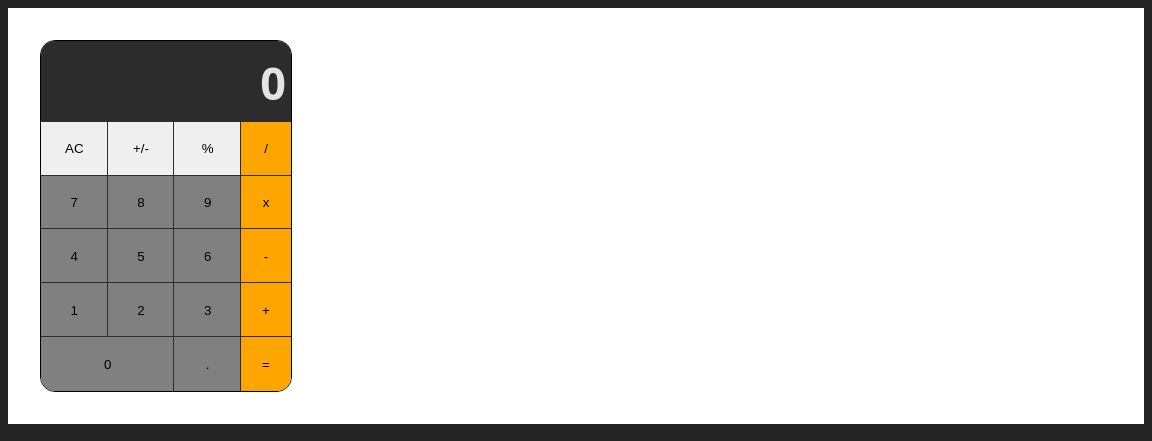
Scenario: user interacts with calculator › user clicks a number and then =, without adding a second number, and then clicks a number again
What coordinates should you click on to do the following:
click the button "1"
I would click on:
 (74, 310)
Its box is x1=41 y1=283 x2=108 y2=337.
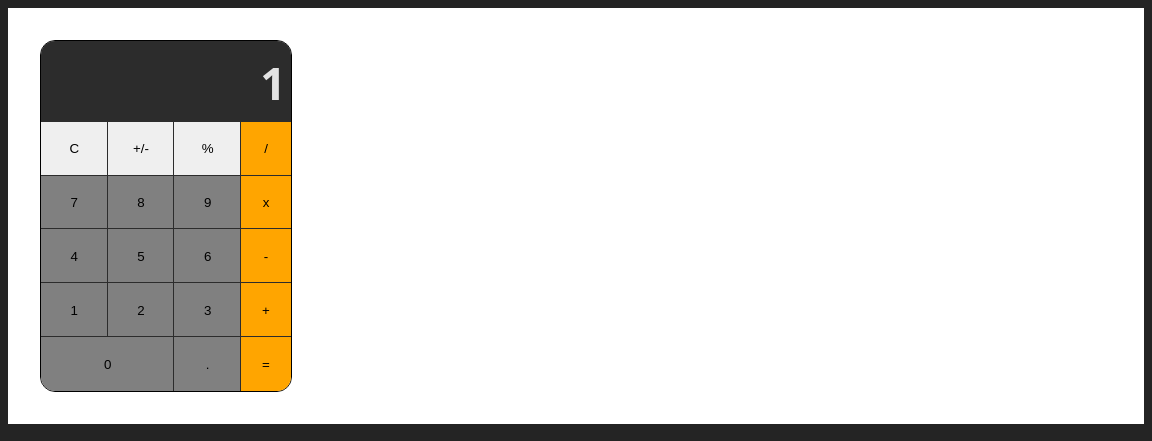
What coordinates should you click on to do the following:
click the button "="
I would click on:
 (266, 364)
Its box is x1=241 y1=337 x2=291 y2=391.
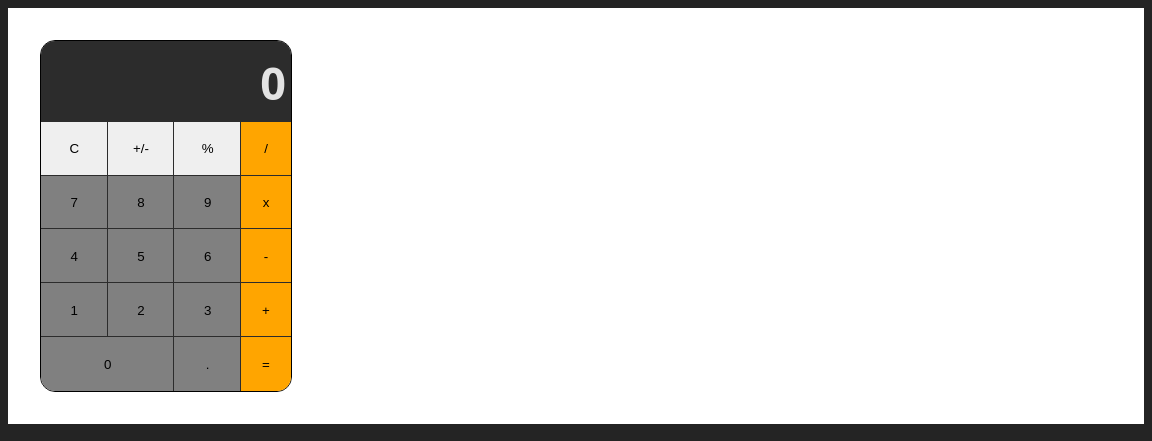
What coordinates should you click on to do the following:
click the button "1"
I would click on:
 (74, 310)
Its box is x1=41 y1=283 x2=108 y2=337.
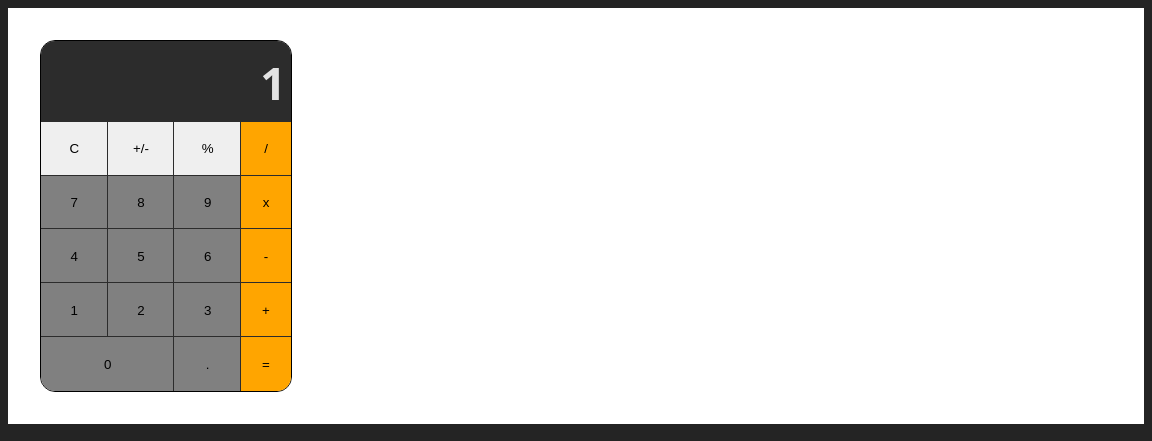
What coordinates should you click on to do the following:
click the button "1"
I would click on:
 (74, 310)
Its box is x1=41 y1=283 x2=108 y2=337.
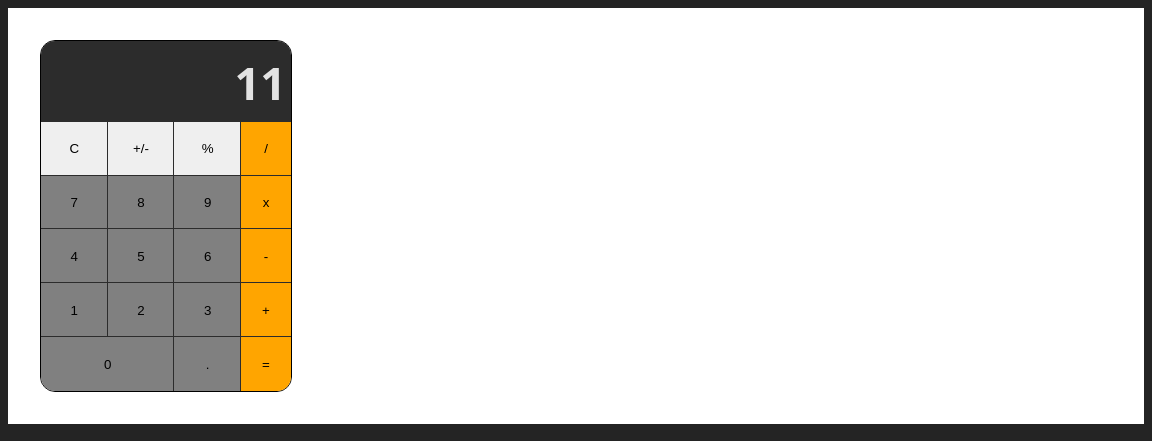
Expected: the heading reads "11", x1=234 y1=52 x2=286 y2=113
